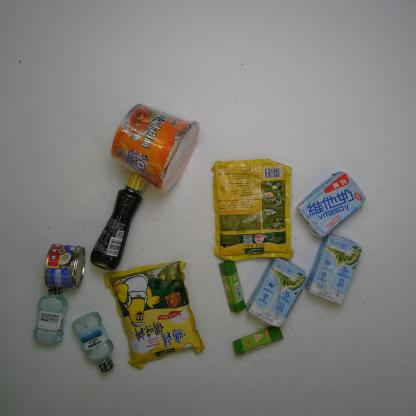Canned Food: (44, 243, 85, 289)
Instant Noodles: (110, 103, 200, 194)
Milk: (296, 171, 366, 239), (245, 257, 307, 328), (305, 234, 363, 306)
Personal Hygiene: (71, 311, 114, 374), (32, 287, 68, 345)
Seasoner: (102, 261, 206, 370), (210, 158, 294, 262), (90, 170, 147, 270)
Stationery: (232, 326, 284, 357), (218, 261, 246, 313)
